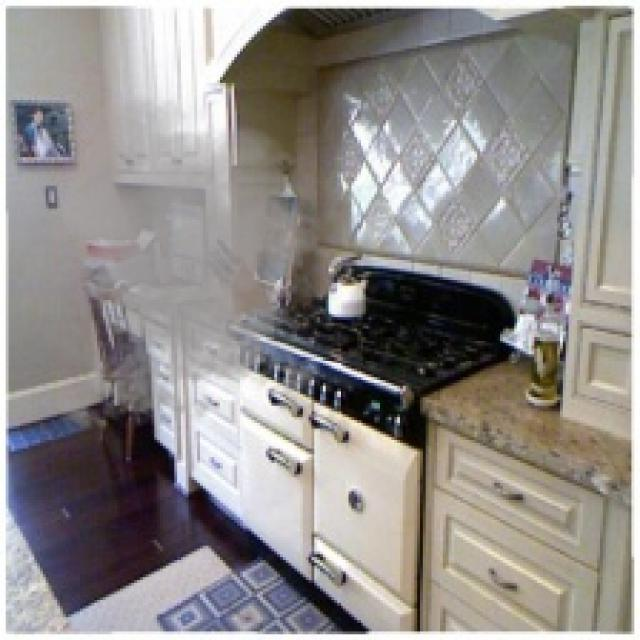Smoke: (2, 88, 372, 440)
